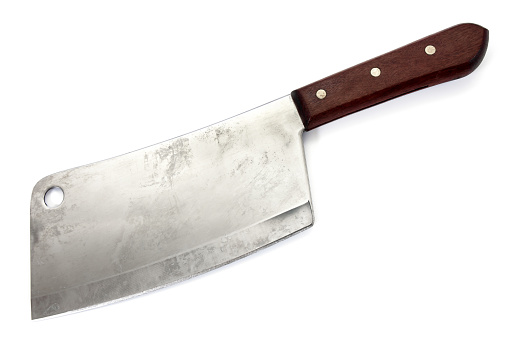knife: (26, 21, 492, 324)
